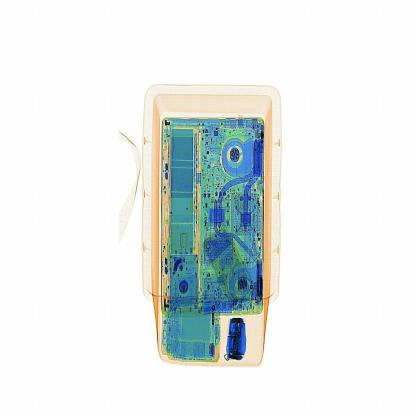scissors: (220, 312, 257, 366)
